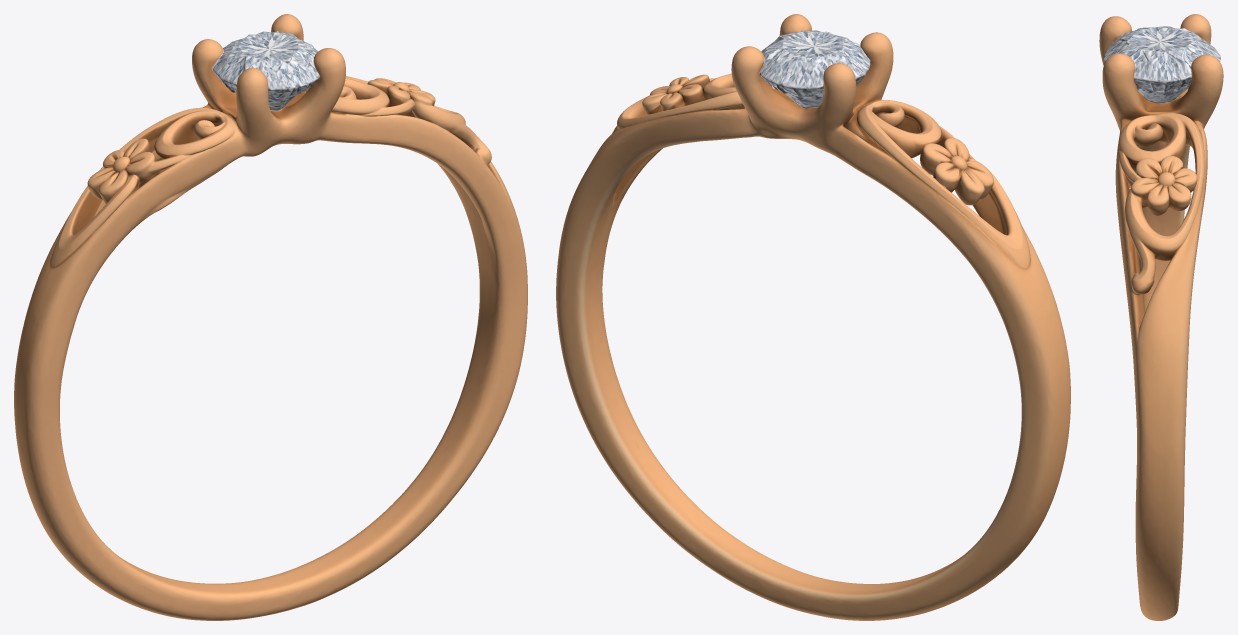
Rendered from solitaire2_meshy.glb.
The picture shows the model from 3 angles, left to right: view 1: azimuth 30°, elevation 25°; view 2: azimuth 150°, elevation 25°; view 3: azimuth 270°, elevation 25°; orthographic projection. The views are drawn at different scales.
Size of the model in its own units: 1.75 by 1.9 by 0.3838.
Materials: 1 (1 with a texture image).
